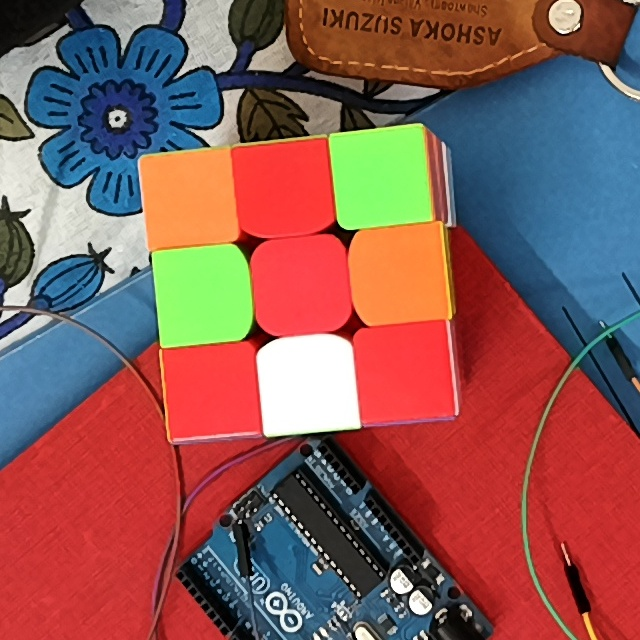tile: (341, 136, 421, 216), (242, 150, 325, 226), (149, 159, 228, 237), (260, 249, 341, 325), (366, 333, 447, 409), (170, 355, 253, 428), (164, 253, 240, 332), (364, 235, 439, 312), (270, 346, 347, 421)
